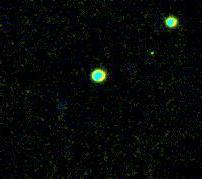star: (19, 79, 49, 109)
